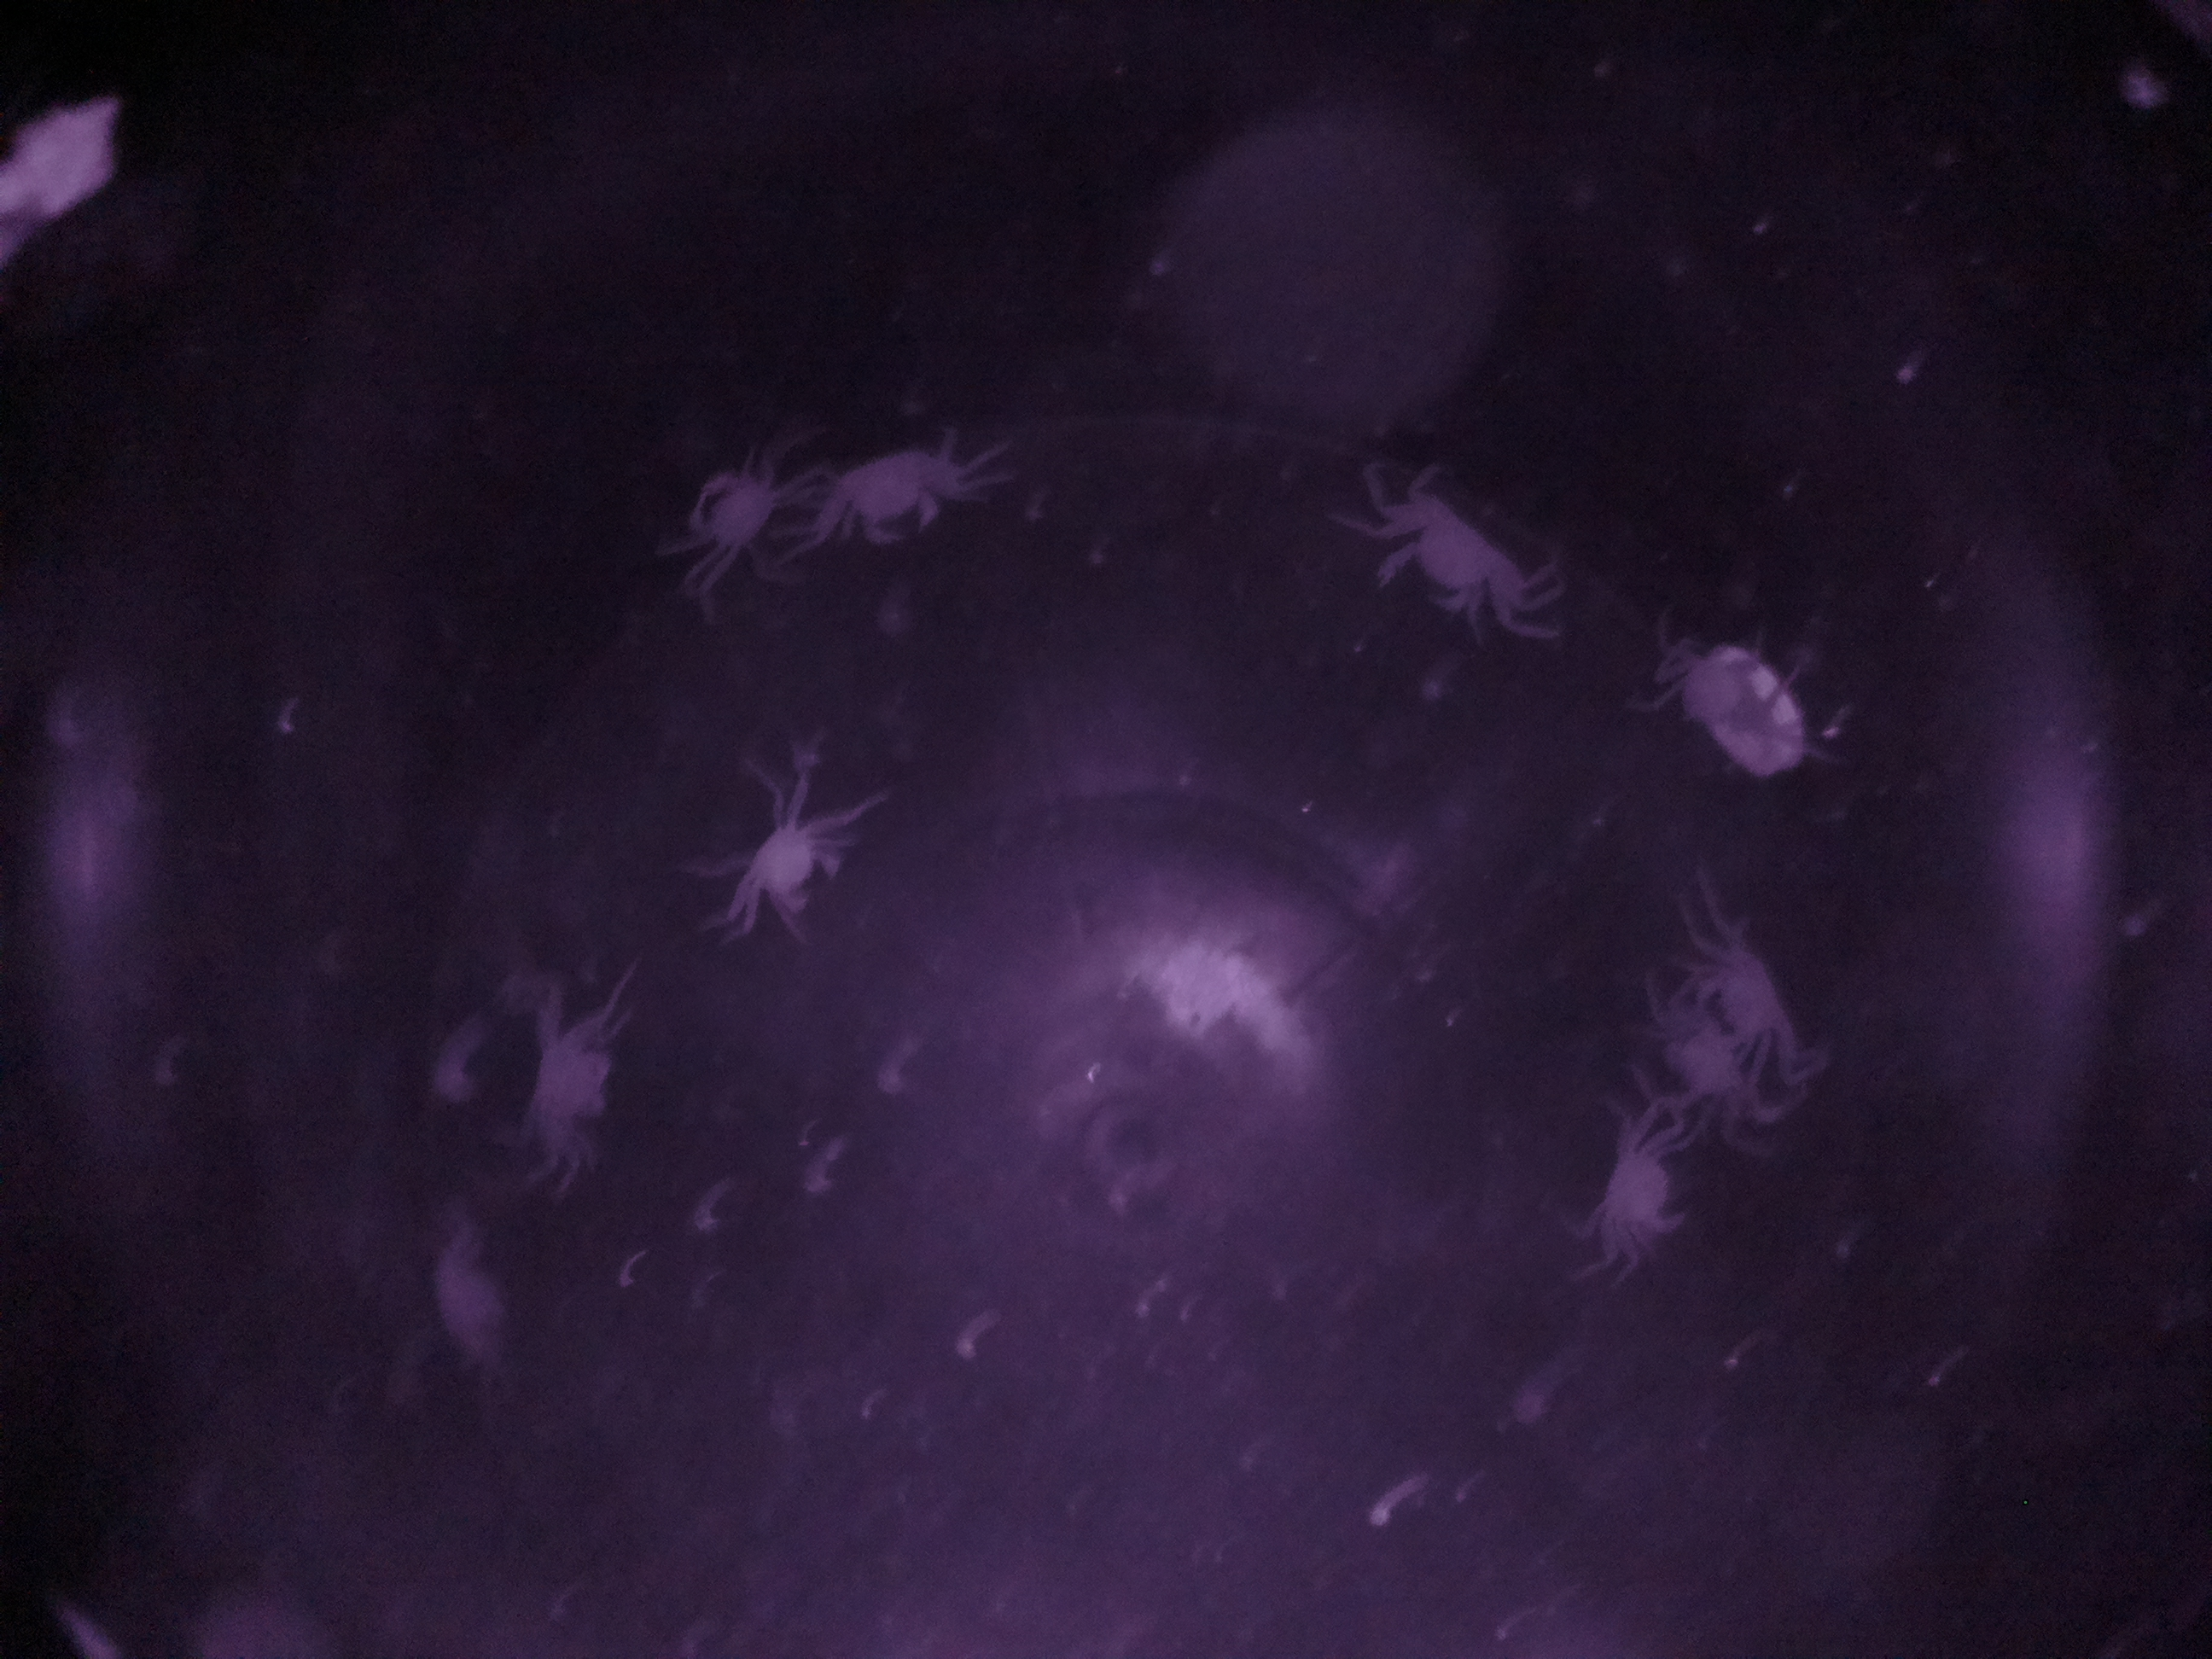Crab: (1353, 467, 1557, 641), (798, 418, 998, 566), (1683, 899, 1838, 1073), (512, 974, 644, 1169), (718, 782, 873, 946), (1578, 1101, 1709, 1283)
